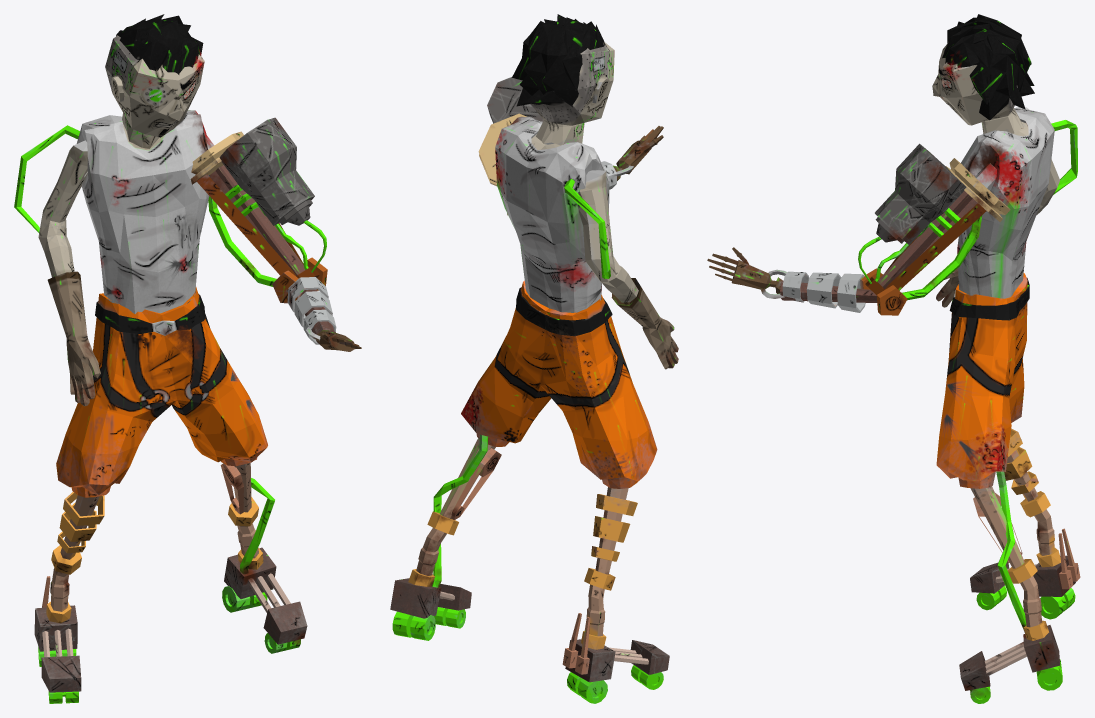
The model's file is CyborgFINALAnimation_000033.obj.
The picture shows the model from 3 angles, left to right: view 1: azimuth 30°, elevation 25°; view 2: azimuth 150°, elevation 25°; view 3: azimuth 270°, elevation 25°; orthographic projection. The views are drawn at different scales.
Parts seen in each view (by area): view 1: CyborgMesh_Cube.002; view 2: CyborgMesh_Cube.002; view 3: CyborgMesh_Cube.002.
Boxes of the visible parts, x1,y1,x2,y2 form: CyborgMesh_Cube.002: (14,14,361,703); CyborgMesh_Cube.002: (390,14,678,703); CyborgMesh_Cube.002: (707,14,1080,703).
Bounding box in the file's own units: 3.8 × 9.63 × 5.21.
